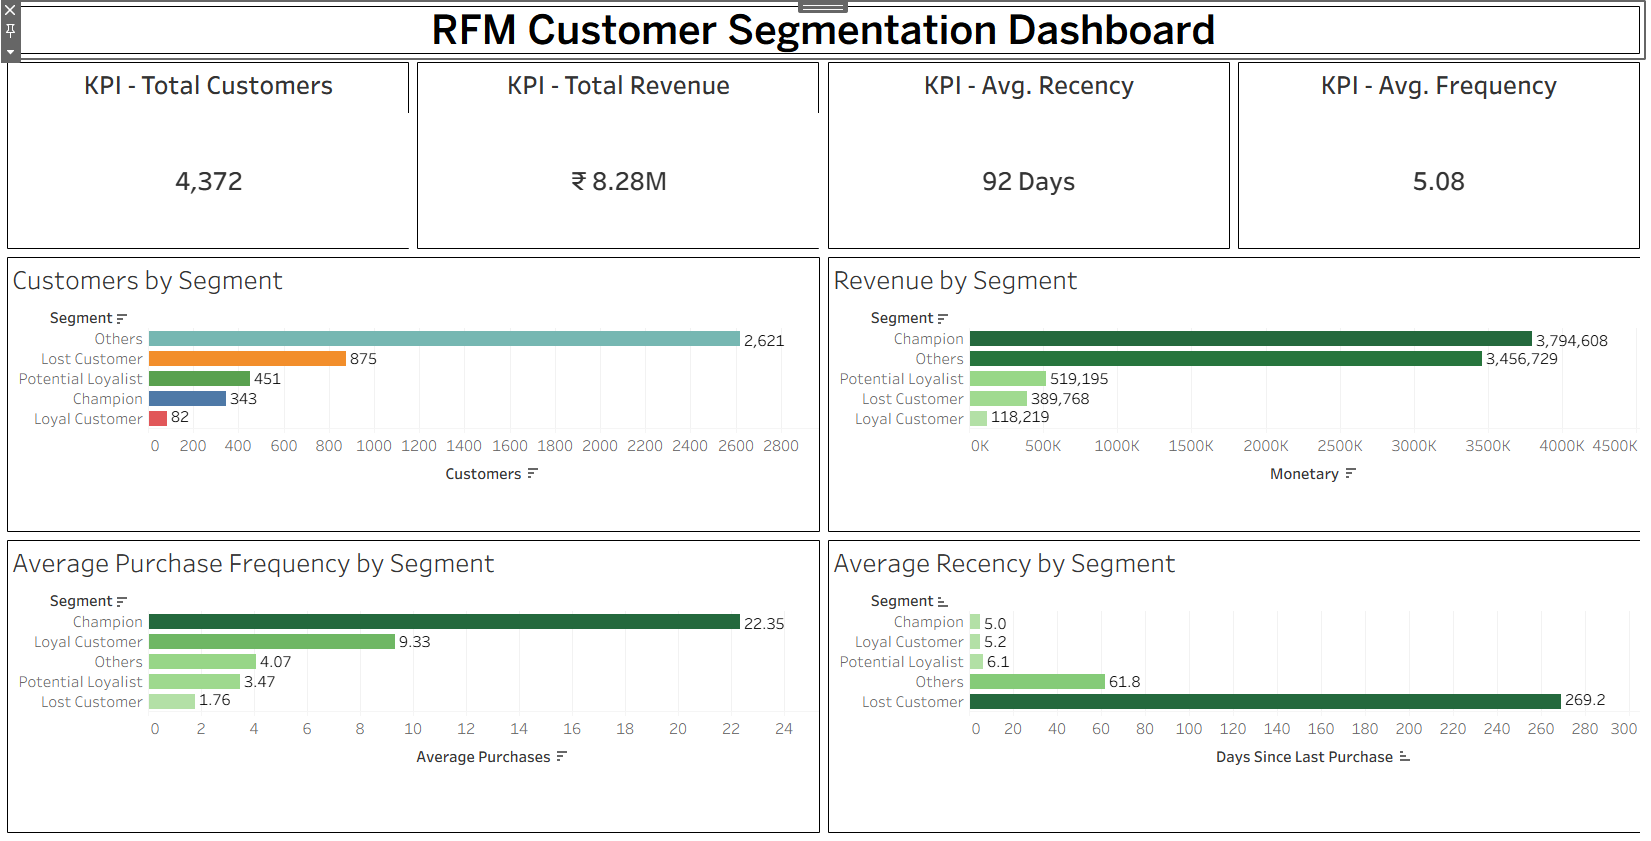

Layout of this report page (visuals, bound fields, positions):
{"tool":"tableau","page":{"name":"RFM Customer Segmentation Dashboard","canvas":[1000,1000],"units":"permille","ordinal":0},"visuals":[{"type":"title","box":[4.8,9.4,990.3,65.8]},{"type":"worksheet","title":"KPI - Total Customers","mark":"Automatic","box":[4.8,75.2,247.7,228.8]},{"type":"worksheet","title":"KPI - Total Revenue","mark":"Automatic","box":[252.6,75.2,247.7,228.8]},{"type":"worksheet","title":"KPI - Avg. Recency","mark":"Automatic","box":[500.3,75.2,247.3,228.8]},{"type":"worksheet","title":"KPI - Avg. Frequency","mark":"Automatic","box":[747.6,75.2,247.6,228.8]},{"type":"legend","title":"Customers by Segment","param":"[federated.0k2rwy01p4dkq915mjkvn0syyor9].[none:Segment:nk]","box":[898.6,75.2,96.6,158.6]},{"type":"legend","title":"Revenue by Segment","param":"[federated.0k2rwy01p4dkq915mjkvn0syyor9].[sum:Monetary:qk]","box":[898.6,233.8,96.6,85.8]},{"type":"worksheet","title":"Customers by Segment","mark":"Automatic","rows":["Segment"],"cols":["CustomerID"],"box":[4.8,304,495.2,332.9]},{"type":"worksheet","title":"Revenue by Segment","mark":"Automatic","rows":["Segment"],"cols":["Monetary"],"box":[500,304,495.2,332.9]},{"type":"legend","title":"Average Purchase Frequency by Segment","param":"[federated.0k2rwy01p4dkq915mjkvn0syyor9].[avg:Frequency:qk]","box":[898.6,319.6,96.6,85.8]},{"type":"legend","title":"Average Recency by Segment","param":"[federated.0k2rwy01p4dkq915mjkvn0syyor9].[avg:Recency:qk]","box":[898.6,405.4,96.6,85.8]},{"type":"worksheet","title":"Average Purchase Frequency by Segment","mark":"Automatic","rows":["Segment"],"cols":["Frequency"],"box":[4.8,636.9,495.2,353.7]},{"type":"worksheet","title":"Average Recency by Segment","mark":"Automatic","rows":["Segment"],"cols":["Recency"],"box":[500,636.9,495.2,353.7]}]}

Visuals, with their boxes on the dashboard's canvas, which has no fixed pixel size, in thousandths of its width and height (x1, y1, x2, y2). These are canvas units, not pixel positions in the 1651x841 screenshot, which may show the page scaled, cropped or inside an application window:
title: detection(5, 9, 995, 75)
"KPI - Total Customers" worksheet: detection(5, 75, 252, 304)
"KPI - Total Revenue" worksheet: detection(253, 75, 500, 304)
"KPI - Avg. Recency" worksheet: detection(500, 75, 748, 304)
"KPI - Avg. Frequency" worksheet: detection(748, 75, 995, 304)
"Customers by Segment" legend: detection(899, 75, 995, 234)
"Revenue by Segment" legend: detection(899, 234, 995, 320)
"Customers by Segment" worksheet: detection(5, 304, 500, 637)
"Revenue by Segment" worksheet: detection(500, 304, 995, 637)
"Average Purchase Frequency by Segment" legend: detection(899, 320, 995, 405)
"Average Recency by Segment" legend: detection(899, 405, 995, 491)
"Average Purchase Frequency by Segment" worksheet: detection(5, 637, 500, 991)
"Average Recency by Segment" worksheet: detection(500, 637, 995, 991)
